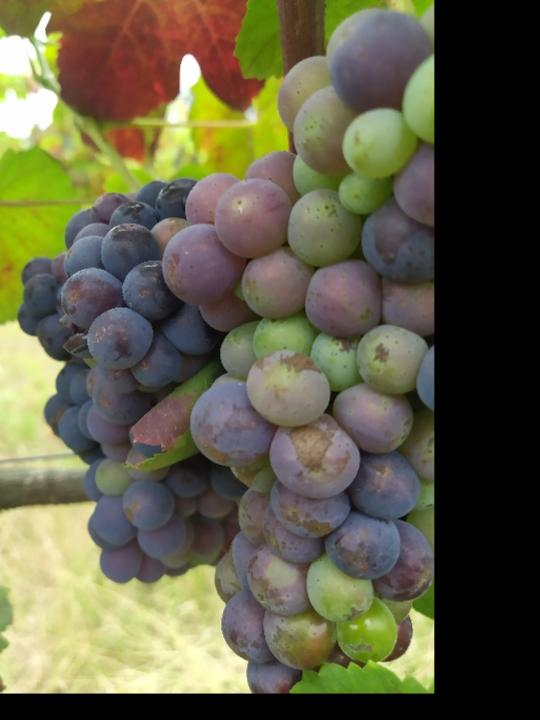grape: (155, 8, 434, 694), (15, 179, 242, 590)
